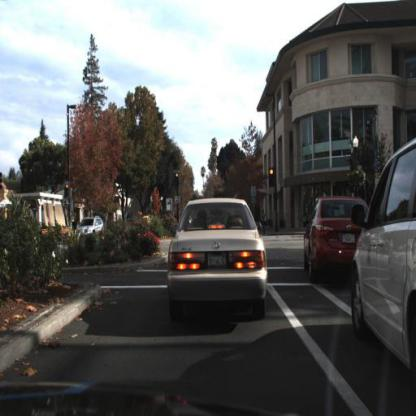car: (337, 128, 416, 387), (164, 197, 269, 322), (304, 189, 372, 294), (75, 214, 107, 239)
pedestrian: (261, 208, 271, 239), (261, 209, 267, 234)
trafficLight-Red: (269, 168, 275, 190), (58, 184, 65, 202), (175, 174, 180, 188)
